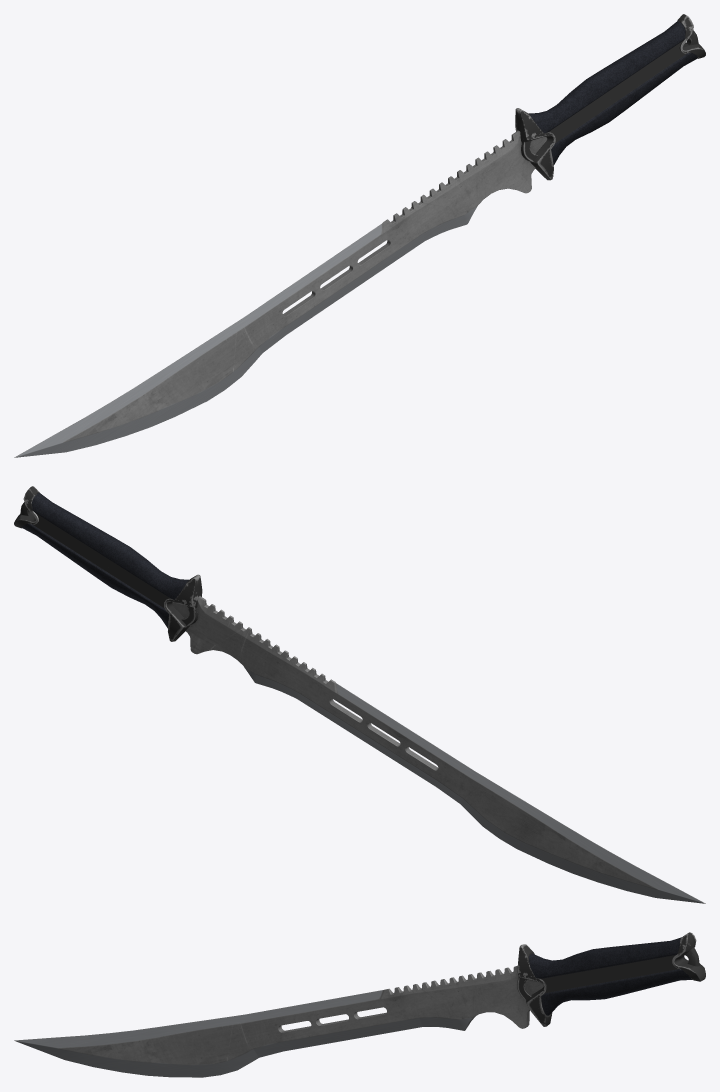
3 views of the same model, one above another, from view 1: azimuth 30°, elevation 25°; view 2: azimuth 150°, elevation 25°; view 3: azimuth 330°, elevation 25° (orthographic). The views are drawn at different scales.
Visible parts, largest first — view 1: Blade_L, Grip_L, Metal_Grip_L; view 2: Blade_L, Grip_L, Metal_Grip_L; view 3: Blade_L, Grip_L, Metal_Grip_L.
Part boxes in pixels (<box>): Blade_L: <box>14,130,547,457</box>; Grip_L: <box>528,21,697,165</box>; Metal_Grip_L: <box>515,14,705,180</box>; Blade_L: <box>172,595,705,903</box>; Grip_L: <box>22,492,188,628</box>; Metal_Grip_L: <box>14,486,202,641</box>; Blade_L: <box>14,966,543,1077</box>; Grip_L: <box>528,937,692,1015</box>; Metal_Grip_L: <box>517,932,705,1026</box>.
Bounding box in the file's own units: 4.23 × 1.6 × 0.176.
1 material, 1 textured.
